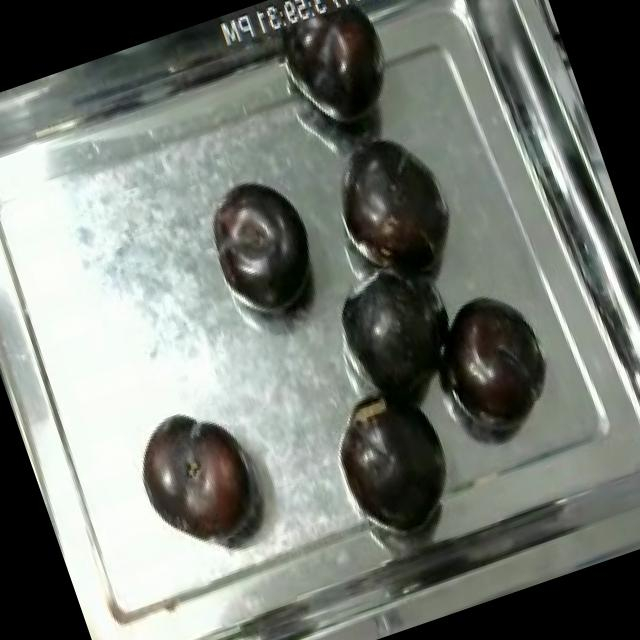Fruit: (312, 369, 469, 550), (322, 122, 474, 294), (412, 274, 566, 443), (123, 396, 274, 568), (194, 162, 336, 330), (321, 253, 458, 410), (270, 0, 412, 144)
